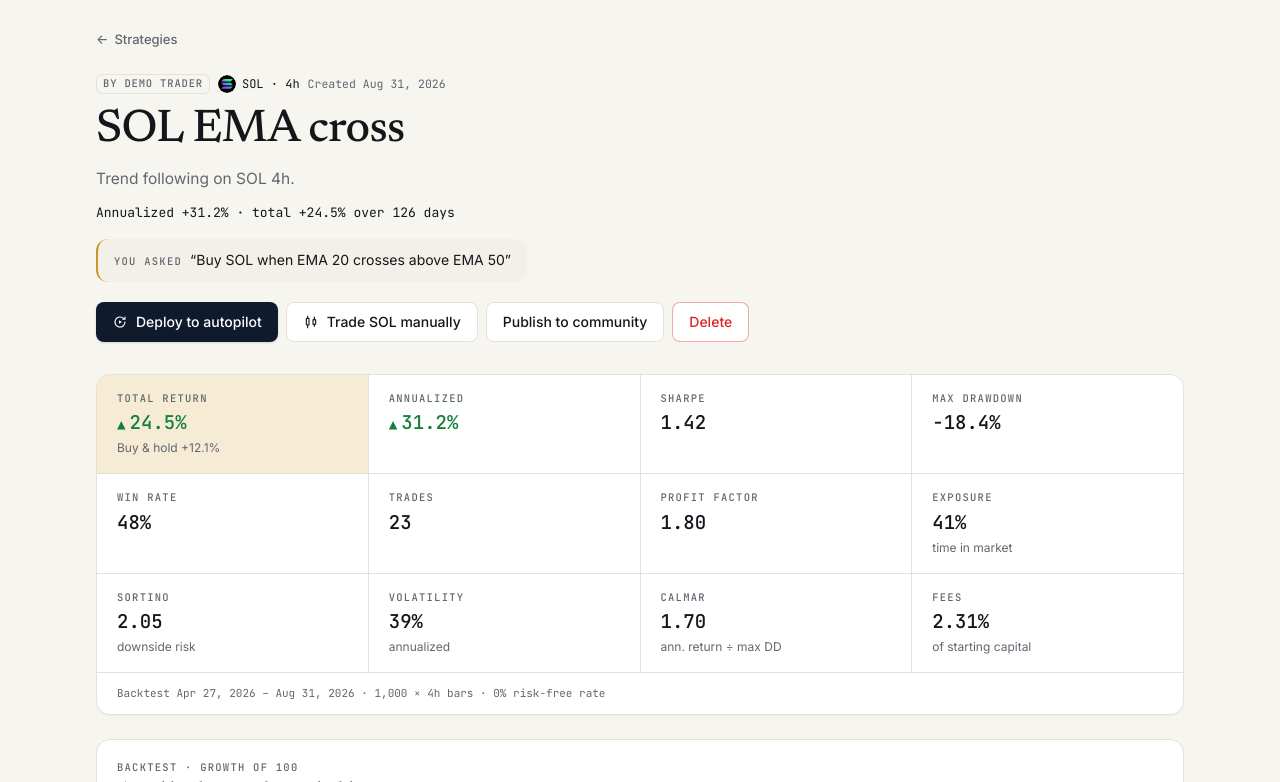
saved forward detail › replaces publication metadata and marker using the saved publish response
The width and height of the screenshot is (1280, 782).
Click the button "Publish to community".
click(575, 322)  # box x1=486 y1=302 x2=664 y2=342
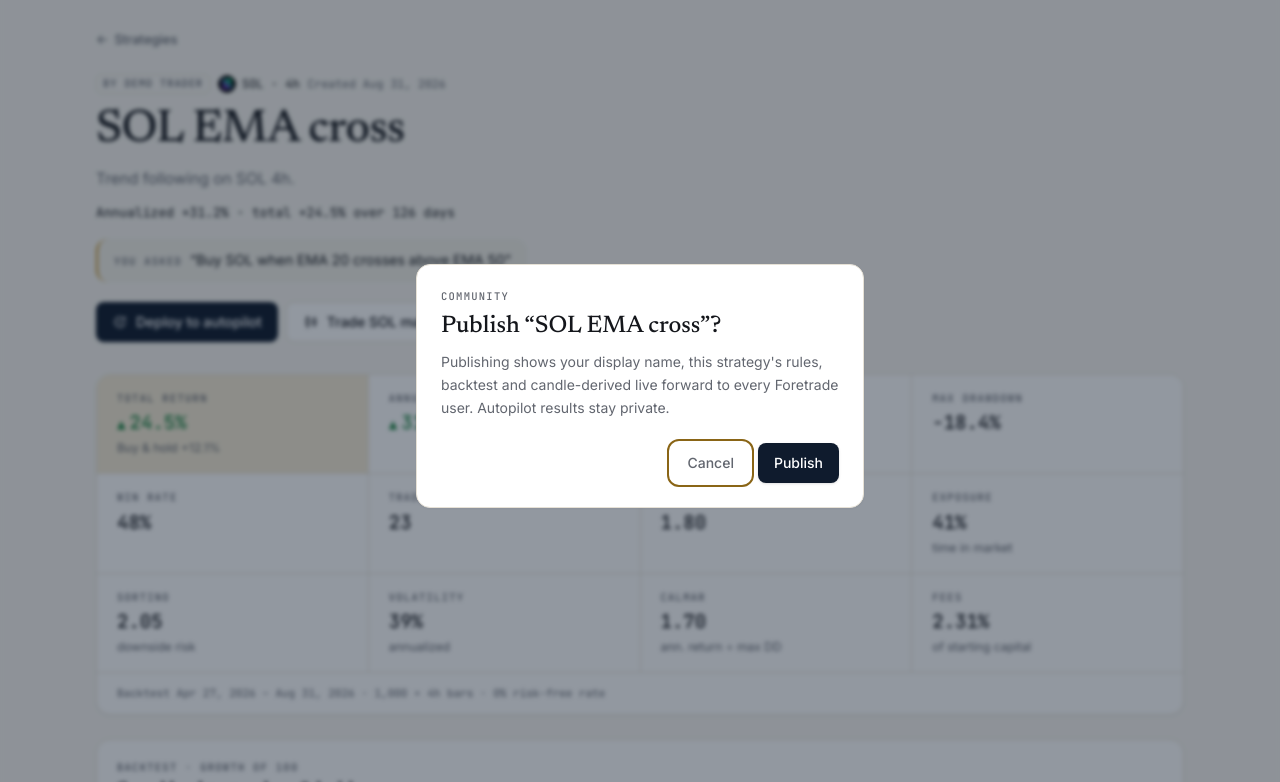
Expected: the dialog shows "live forward", x1=441 y1=353 x2=838 y2=416
Expected: the dialog shows "Autopilot results stay private", x1=441 y1=353 x2=838 y2=416
Click the button "Publish".
click(798, 464)  # box x1=758 y1=444 x2=839 y2=484
(page scrolled)
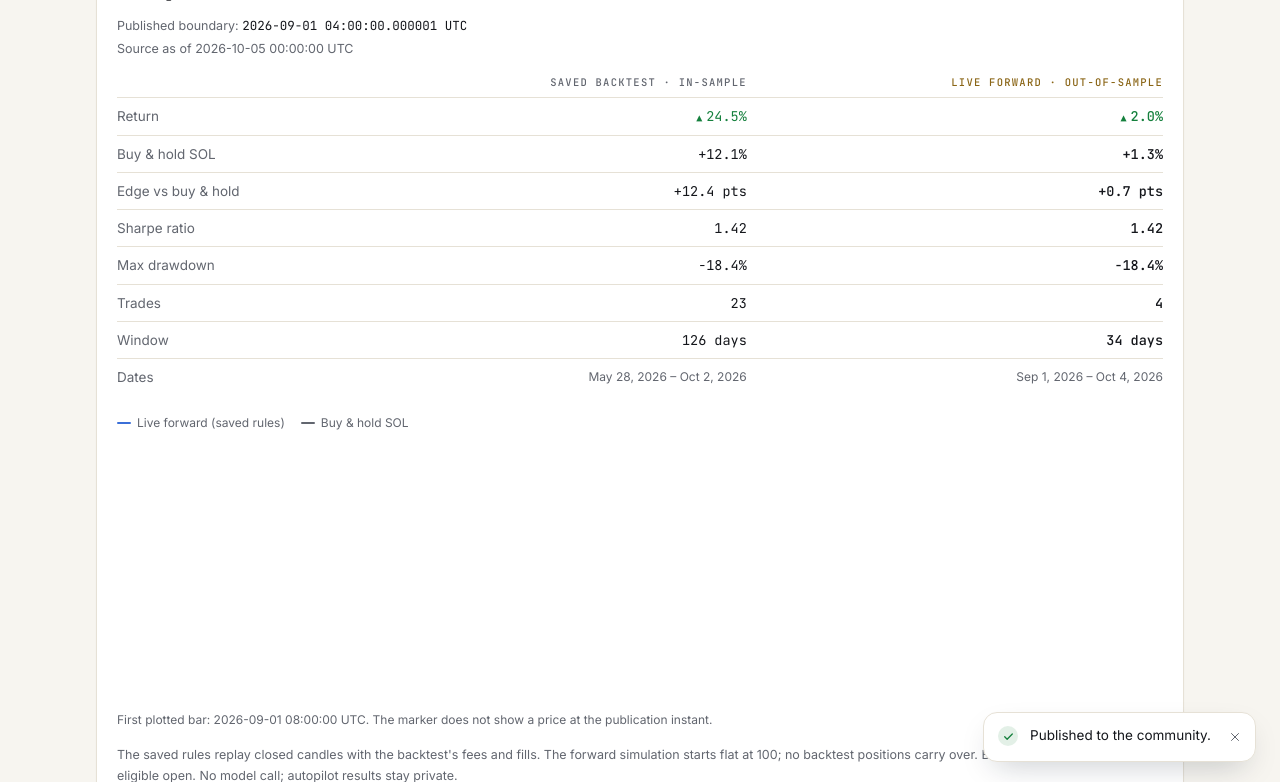
Expected: the element "live forward" shows "2026-09-01 04:00:00.000001 UTC", x1=242 y1=17 x2=467 y2=34
Expected: the element "live forward" shows "2.0%", x1=1131 y1=107 x2=1163 y2=125
